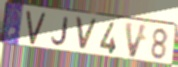4: (98, 20, 119, 56)
8: (150, 27, 170, 62)
J: (50, 16, 69, 47)
V: (123, 20, 150, 60), (74, 16, 99, 53), (25, 10, 48, 46)
